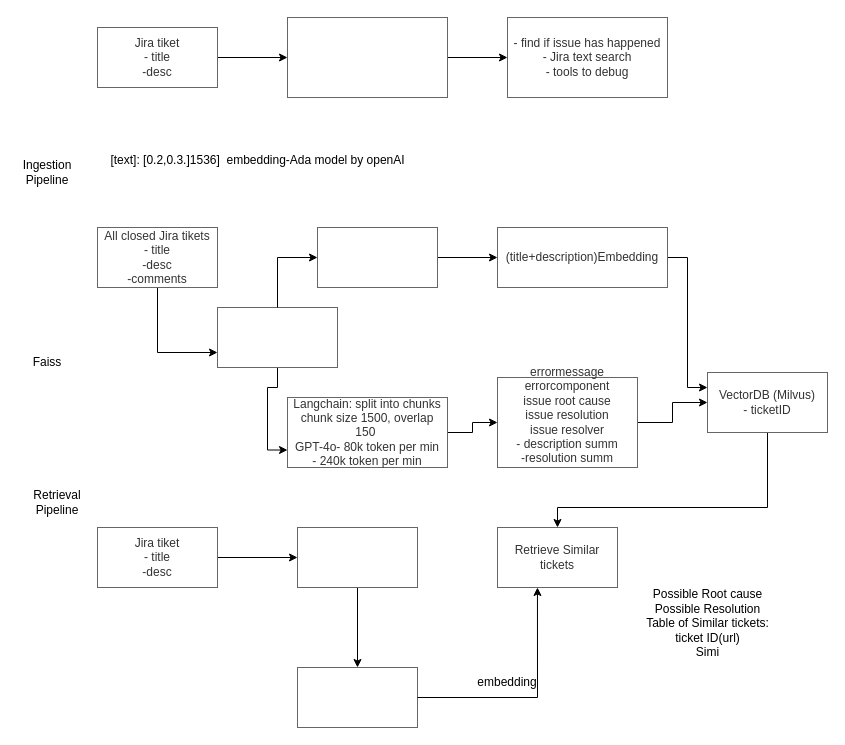
Image size: 845x745. Some labels were removed from this diagram. Each missing label, with the centre of its shape:
"- Understand the text - MerchantId - transactionId -errorcode/ms - TPV revenue" goes at (x=367, y=57).
"ADa embed (new ticket)" goes at (x=357, y=697).
"OpenAI ada embed" goes at (x=377, y=257).
"Preprocessing" goes at (x=277, y=337).
"Validation" goes at (x=357, y=557).
